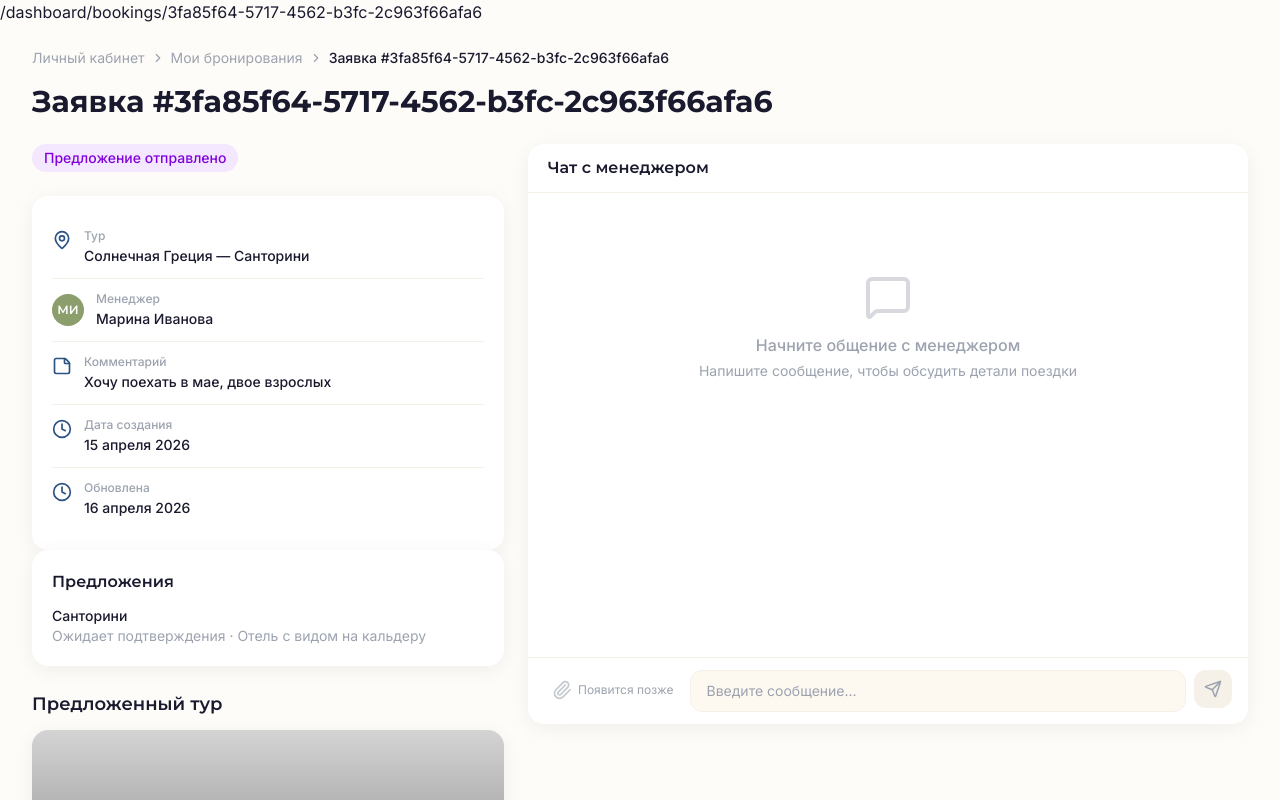
Test: manager row on booking pages › после ошибки предварительного запроса следующее открытие повторяет GET
The image size is (1280, 800).
Click the button "МИ Менеджер Марина Иванова".
click(68, 310)  # box 52,279 -> 484,342
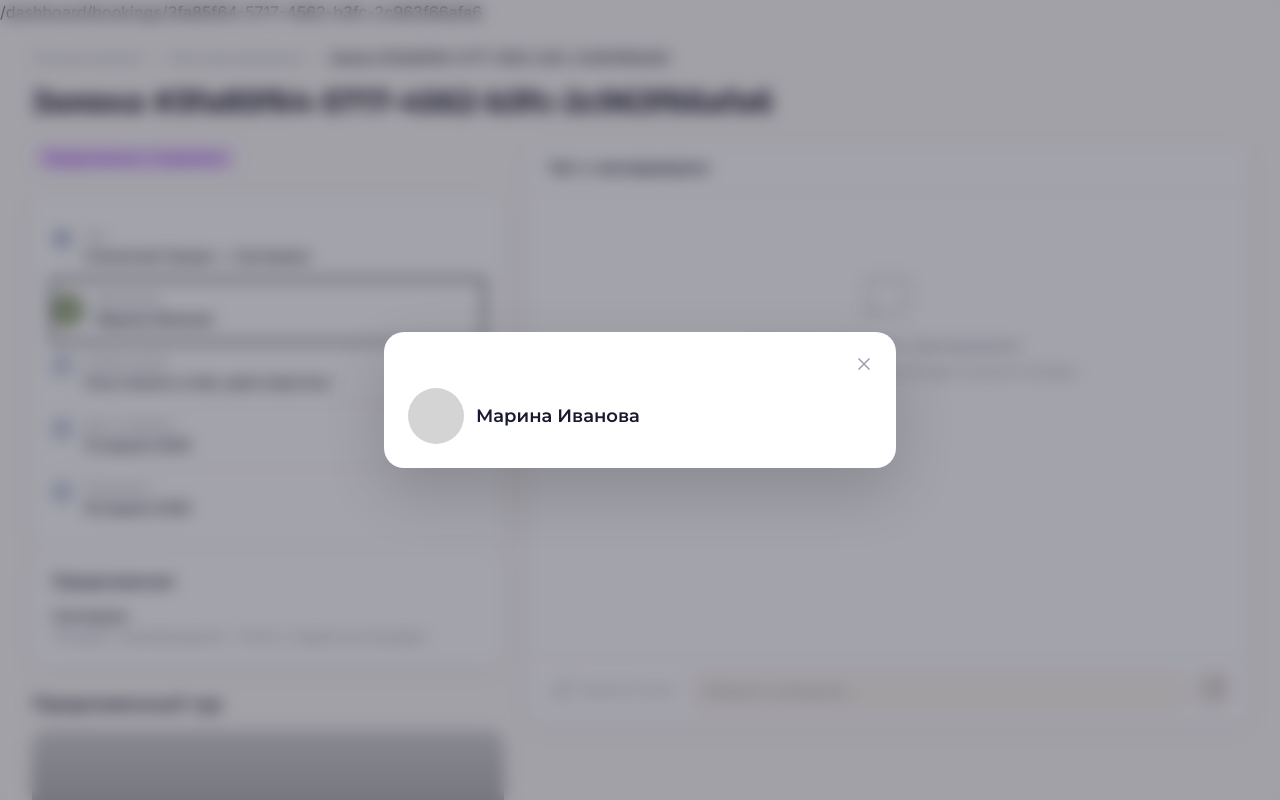
Now the text "Марина Иванова" is shown, box 476,402 -> 640,430
Click the button named "Закрыть".
click(864, 364)  # box 848,348 -> 880,380
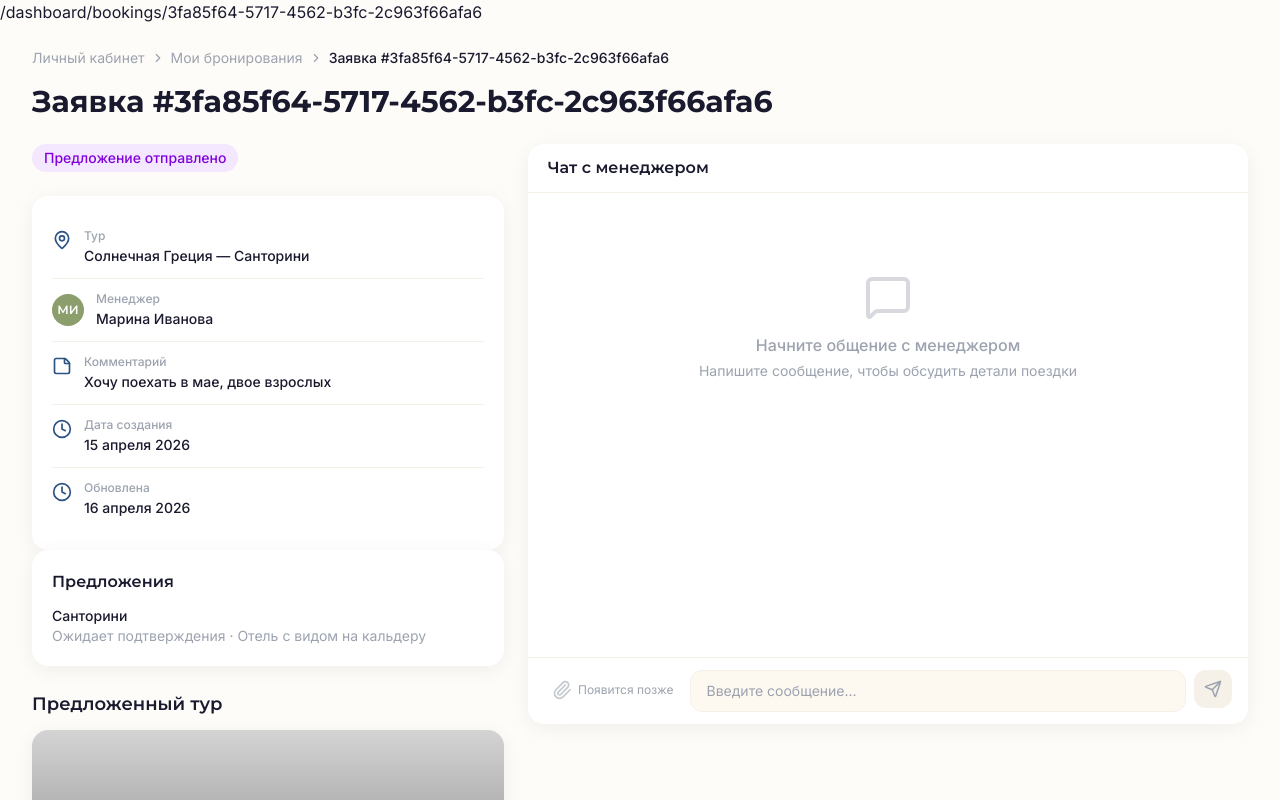
Click the button "МИ Менеджер Марина Иванова".
click(68, 310)  # box 52,279 -> 484,342
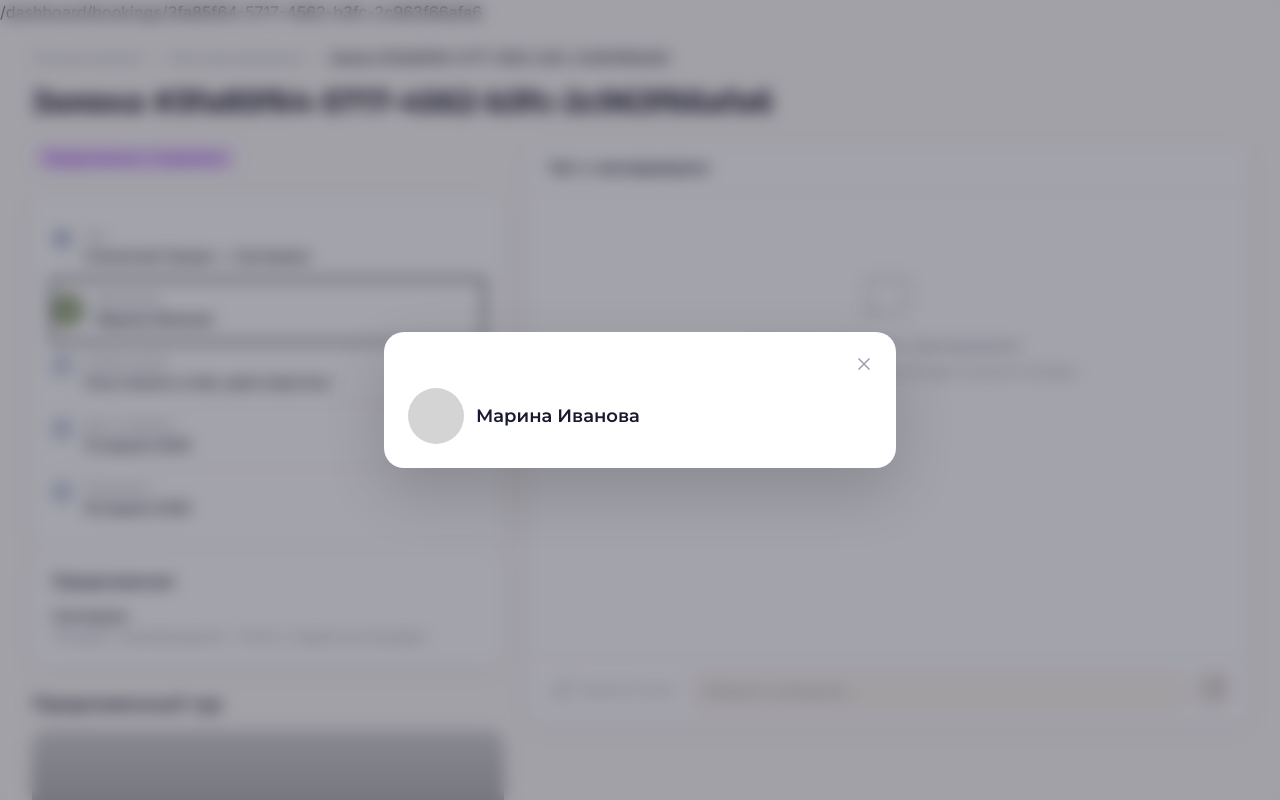
Now the dialog named "Карточка менеджера" is shown, box 384,332 -> 896,468
